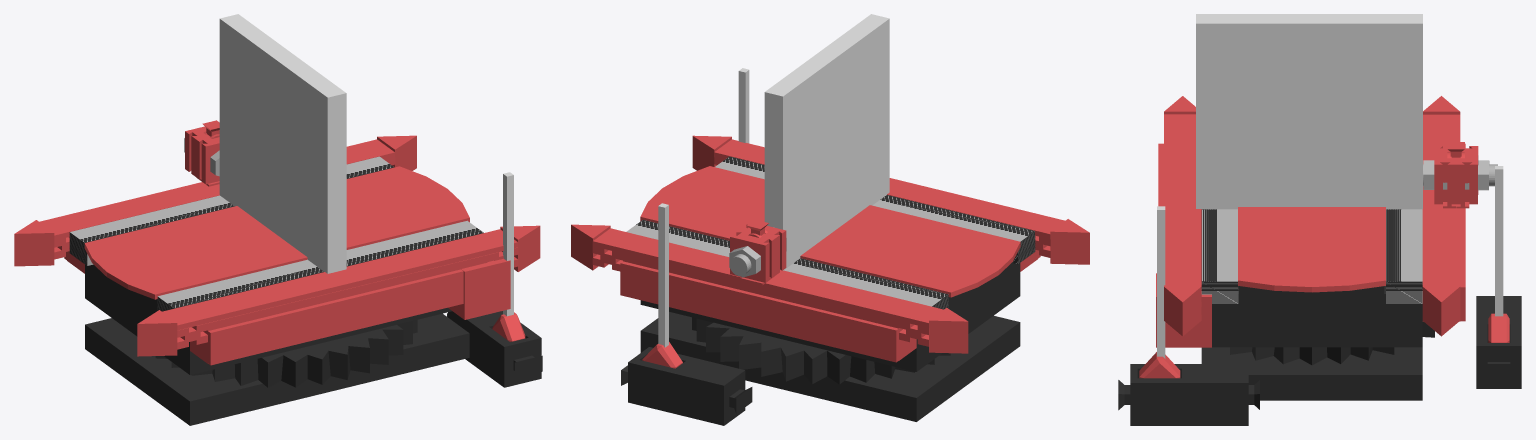
Rendered from Conveyor_Rotary.glb.
3 views of the same model, side by side, from view 1: azimuth 30°, elevation 25°; view 2: azimuth 150°, elevation 25°; view 3: azimuth 270°, elevation 25° (orthographic). The views are drawn at different scales.
Parts seen in each view (by area): view 1: TriggerZone, Cylinder.001, Cube.001, Cube.012, Cube.003, Rotator, Belt, Cube.013, Cube.014, Cube.002, Belt1, Cube.011 (+9 smaller); view 2: TriggerZone, Cylinder.001, Cube.001, Cube.010, Cube.002, Cube.016, Rotator, Cube.013, Belt1, Cube.003, Belt, Cube.009 (+10 smaller); view 3: TriggerZone, Cylinder.001, Cube.013, Cube.001, Cube.014, Cube.003, Cube.002, Cube.016, Belt1, Belt, Cube.004, Rotator (+11 smaller).
Boxes of the visible parts, box(x1,y1,x2,y2) form: TriggerZone: box(219, 14, 346, 273); Cylinder.001: box(84, 166, 469, 299); Cube.001: box(85, 313, 469, 425); Cube.012: box(207, 269, 463, 365); Cube.003: box(162, 229, 517, 330); Rotator: box(155, 319, 417, 387); Belt: box(157, 220, 483, 311); Cube.013: box(85, 264, 451, 374); Cube.014: box(447, 311, 542, 387); Cube.002: box(39, 139, 394, 240); Belt1: box(69, 156, 394, 265); Cube.011: box(190, 255, 487, 363); TriggerZone: box(764, 14, 889, 270); Cylinder.001: box(640, 166, 1020, 297); Cube.001: box(640, 312, 1020, 421); Cube.010: box(620, 261, 898, 362); Cube.002: box(592, 228, 943, 327); Cube.016: box(621, 347, 752, 425); Rotator: box(692, 317, 950, 384); Cube.013: box(640, 263, 1020, 371); Belt1: box(626, 220, 948, 309); Cube.003: box(714, 139, 1064, 238); Belt: box(715, 156, 1035, 264); Cube.009: box(623, 253, 916, 360); TriggerZone: box(1196, 14, 1422, 209); Cylinder.001: box(1238, 207, 1385, 292); Cube.013: box(1212, 286, 1422, 347); Cube.001: box(1201, 347, 1422, 400); Cube.014: box(1118, 364, 1259, 425); Cube.003: box(1164, 114, 1201, 286); Cube.002: box(1422, 114, 1460, 286); Cube.016: box(1476, 296, 1521, 388); Belt1: box(1386, 209, 1422, 303); Belt: box(1201, 209, 1238, 303); Cube.004: box(1434, 142, 1478, 204); Rotator: box(1230, 321, 1434, 365).
Bounding box in the file's own units: 8.27 × 5.94 × 6.82.
Materials: 16 (2 with a texture image).
